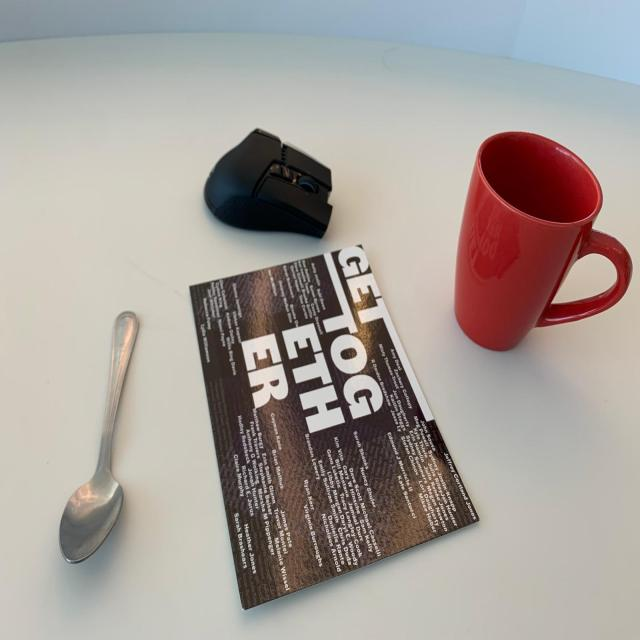Cup: (450, 108, 636, 378)
Mouse: (188, 124, 358, 250)
Spoon: (49, 305, 152, 579)
